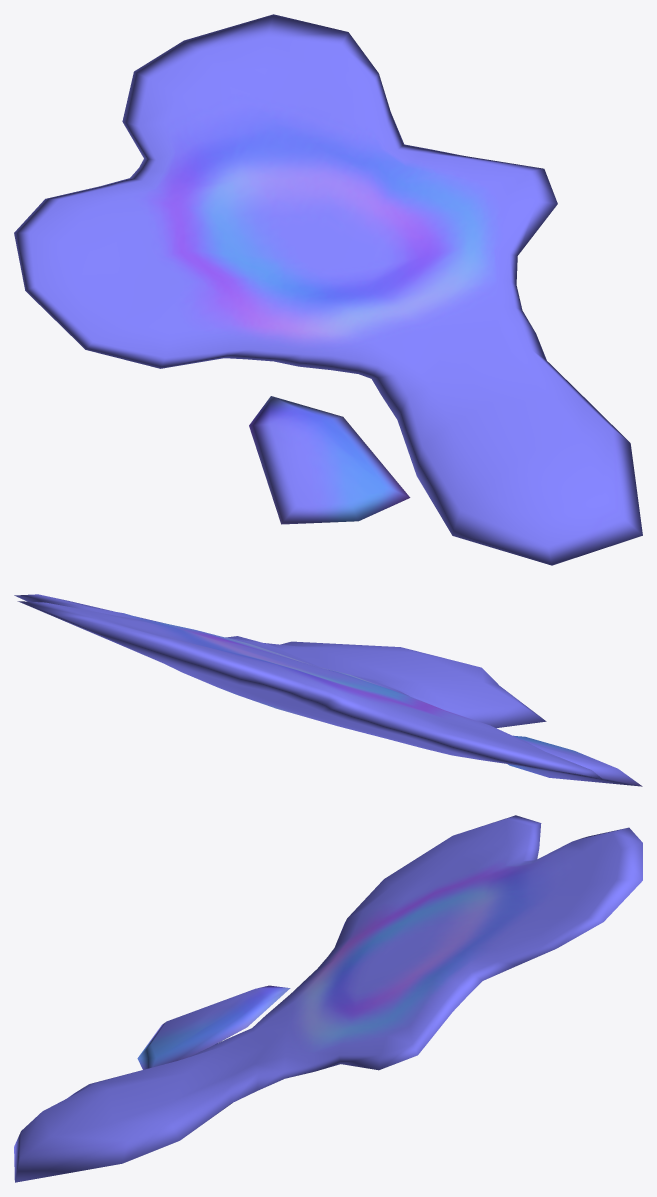
File: p_mesh_trashbot_destruction_arenagoop01_pose0.fbx
3 views of the same model, one above another, from view 1: azimuth 30°, elevation 25°; view 2: azimuth 150°, elevation 25°; view 3: azimuth 270°, elevation 25° (orthographic). The views are drawn at different scales.
Parts seen in each view (by area): view 1: trashbot_destruction_goop1_pose0; view 2: trashbot_destruction_goop1_pose0; view 3: trashbot_destruction_goop1_pose0.
Part boxes in pixels (x1,y1,x2,y2): trashbot_destruction_goop1_pose0: [14, 14, 642, 565]; trashbot_destruction_goop1_pose0: [14, 594, 642, 786]; trashbot_destruction_goop1_pose0: [14, 815, 642, 1182].
Size of the model in its own units: 39.65 by 22.79 by 44.96.
